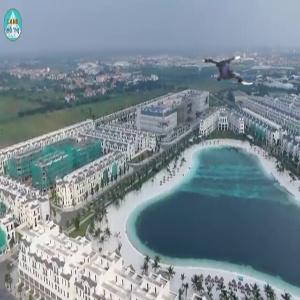drone: (207, 46, 258, 97)
